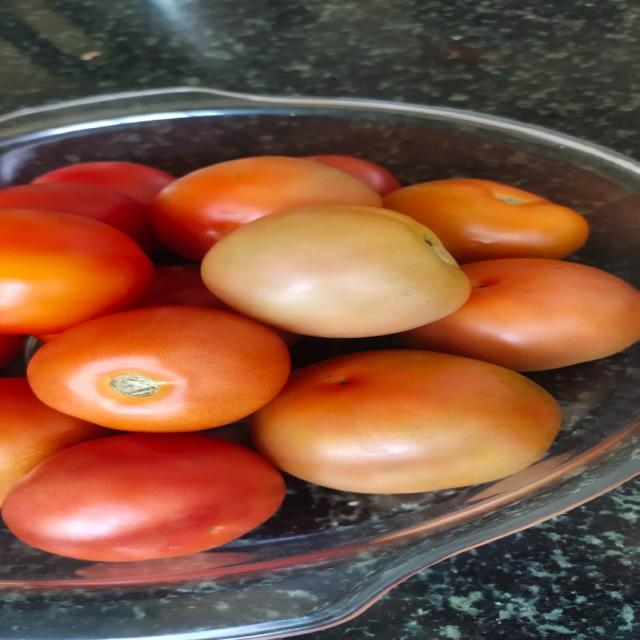Tomato: (249, 350, 562, 494), (1, 434, 284, 563), (200, 205, 470, 338), (25, 306, 289, 433), (398, 258, 640, 372), (149, 156, 381, 261), (0, 208, 153, 335), (382, 178, 588, 264), (1, 182, 155, 247), (30, 162, 175, 205)
